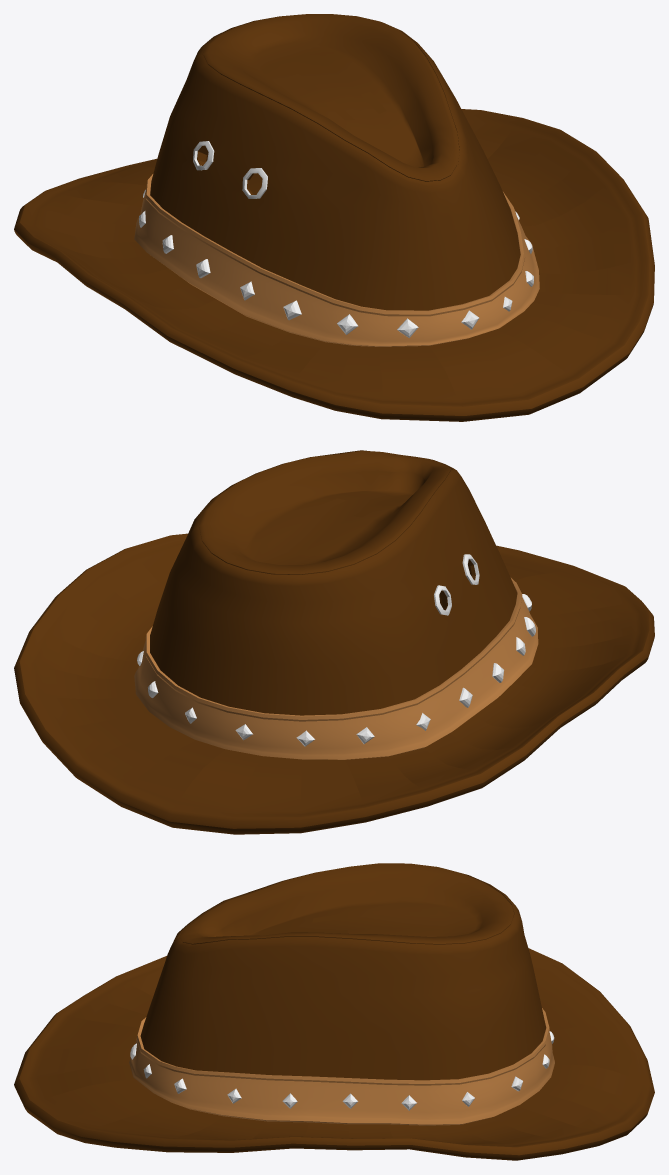
The model's file is Cowboy_Hat.fbx.
3 views of the same model, one above another, from view 1: azimuth 30°, elevation 25°; view 2: azimuth 150°, elevation 25°; view 3: azimuth 270°, elevation 25° (orthographic). The views are drawn at different scales.
Visible parts, largest first — view 1: Cowboy_hat; view 2: Cowboy_hat; view 3: Cowboy_hat.
Boxes of the visible parts, x1,y1,x2,y2 form: Cowboy_hat: [14, 14, 654, 421]; Cowboy_hat: [14, 450, 654, 834]; Cowboy_hat: [14, 863, 654, 1160].
Size of the model in its own units: 5.25 by 2.19 by 6.22.
1 material, 1 textured.
